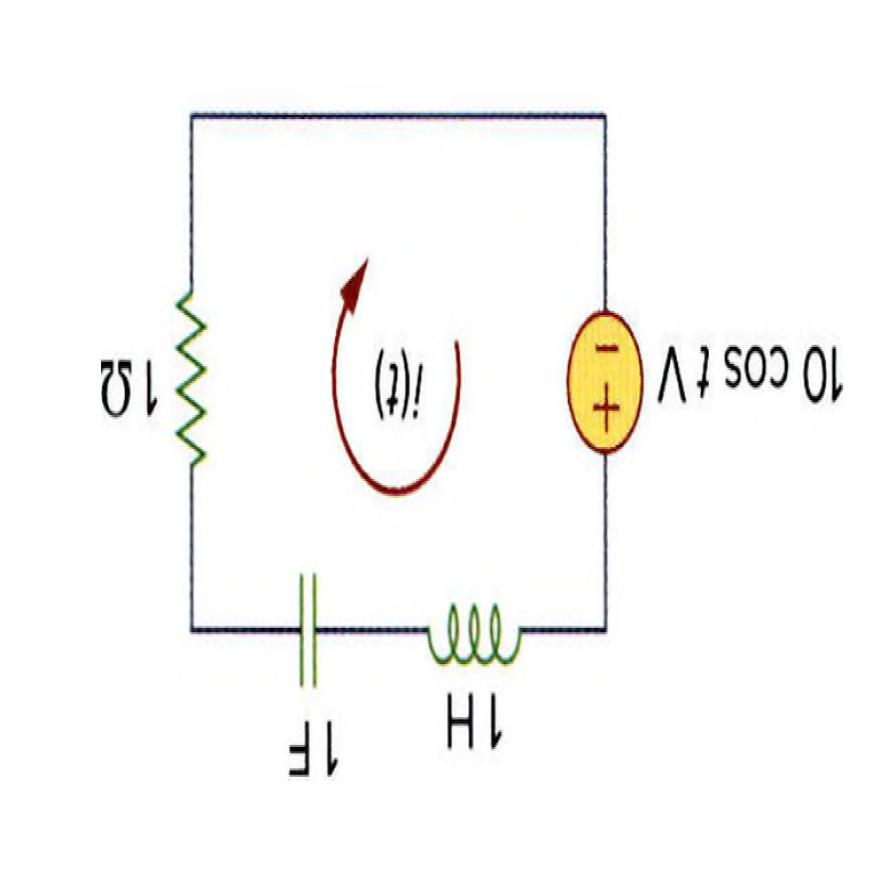V3: (563, 297, 646, 468)
